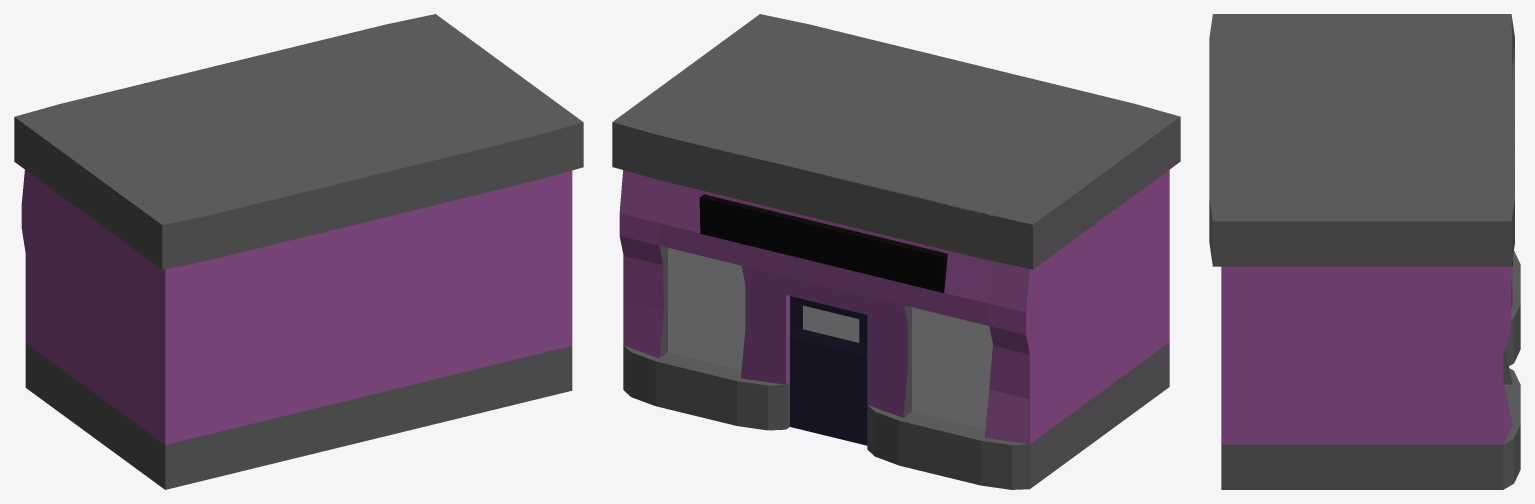
File: storeB.fbx
The picture shows the model from 3 angles, left to right: view 1: azimuth 30°, elevation 25°; view 2: azimuth 150°, elevation 25°; view 3: azimuth 270°, elevation 25°; orthographic projection.
Visible parts, largest first — view 1: StoreB; view 2: StoreB; view 3: StoreB.
Boxes of the visible parts, left/top/right/bottom form: StoreB: left=14, top=14, right=583, bottom=489; StoreB: left=612, top=14, right=1180, bottom=489; StoreB: left=1209, top=14, right=1520, bottom=489.
Size of the model in its own units: 945 by 578 by 599.
